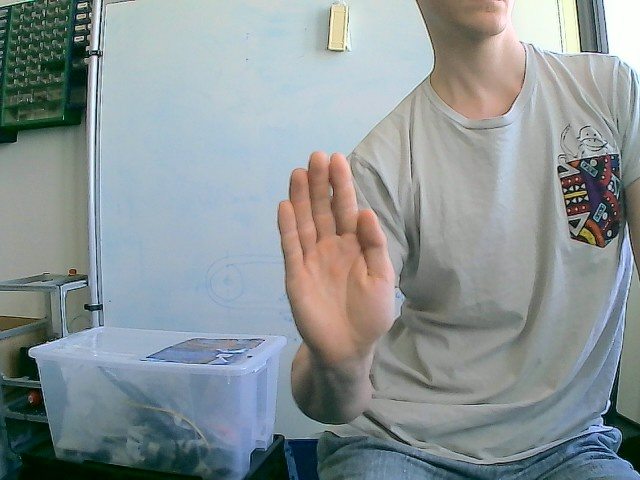stop: (276, 150, 397, 367)
